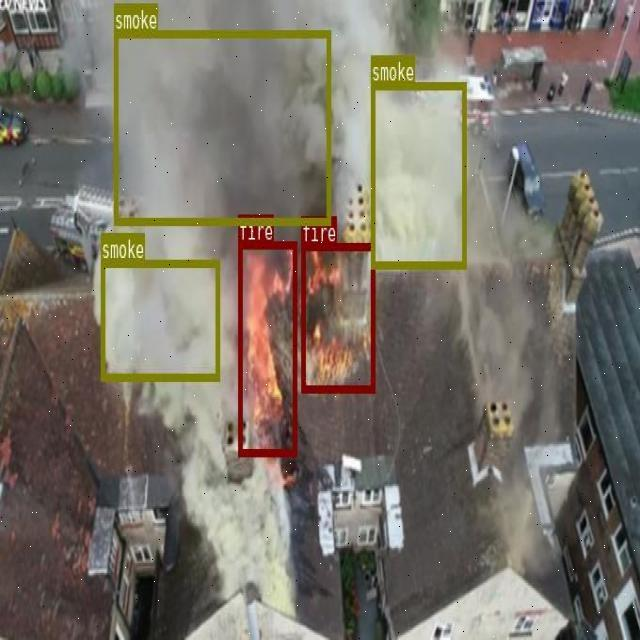fire: (237, 240, 296, 454), (301, 242, 374, 391)
smoke: (114, 29, 329, 223), (370, 82, 466, 268), (100, 259, 219, 381)
